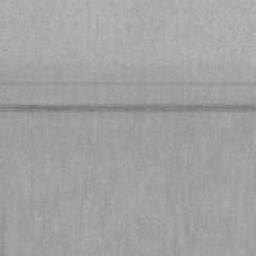Welding line: (0, 104, 256, 114)
